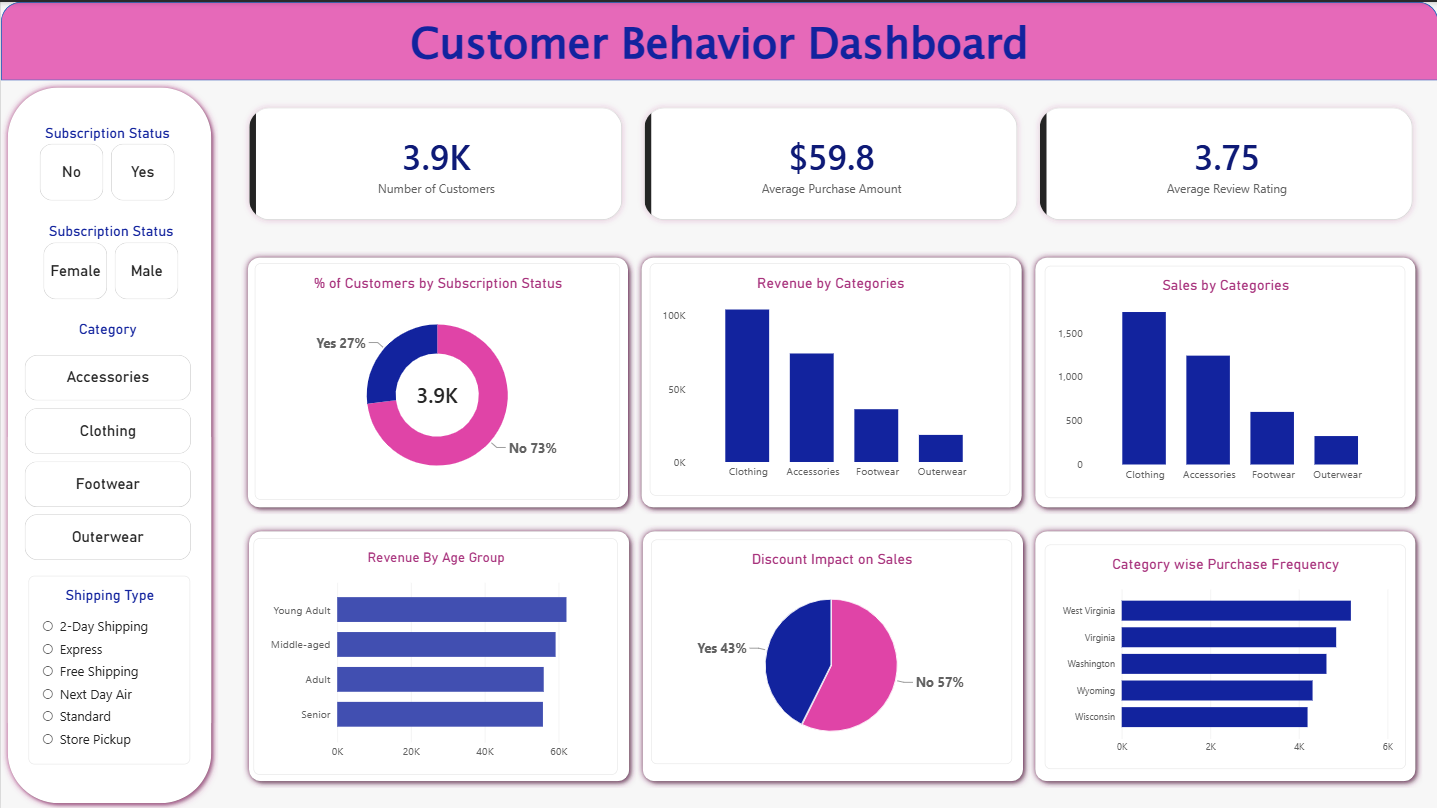

What the dashboard file says about the page in this screenshot:
{"tool":"powerbi","page":{"name":"Page 1","canvas":[1920,1080],"ordinal":0},"visuals":[{"type":"cardVisual","fields":{"Data":["customer.Number of Customers","customer.Average Purchase Amount","customer.Average Review Rating"]},"box":[320,130,1578,172],"z":0},{"type":"shape","box":[0,0,1920,105],"z":1000},{"type":"textbox","box":[0,13.3,1920,91.7],"z":2000},{"type":"shape","box":[320,332,526,352],"z":3000},{"type":"donutChart","title":"% of Customers by Subscription Status","fields":{"Category":["customer.subscription_status"],"Y":["CountNonNull(customer.customer_id)"]},"box":[338.3,348.8,487.9,316],"z":4000},{"type":"shape","box":[846,332,526,352],"z":5000},{"type":"shape","box":[1372,332,526,352],"z":6000},{"type":"clusteredColumnChart","title":"Revenue by Categories","fields":{"Category":["customer.category"],"Y":["Sum(customer.purchase_amount)"]},"box":[867.2,348.5,481.9,310.3],"z":7000},{"type":"clusteredColumnChart","title":"Sales by Categories","fields":{"Category":["customer.category"],"Y":["CountNonNull(customer.customer_id)"]},"box":[1394,352.3,481.9,310.3],"z":8000},{"type":"shape","box":[0,106,290,974],"z":9000},{"type":"advancedSlicerVisual","title":"Subscription Status","fields":{"Values":["customer.subscription_status"]},"box":[32,164,221,101.6],"z":10000},{"type":"advancedSlicerVisual","title":"Category","fields":{"Values":["customer.category"]},"box":[32,426,222,340],"z":11000},{"type":"listSlicer","title":"Shipping Type","fields":{"Values":["customer.shipping_type"]},"box":[36,766,216,252],"z":12000},{"type":"shape","box":[322,698,526,352],"z":13000},{"type":"clusteredBarChart","title":"Revenue By Age Group","fields":{"Category":["customer.age_group"],"Y":["Sum(customer.purchase_amount)"]},"box":[338,716,486,316],"z":14000},{"type":"shape","box":[848,698,526,352],"z":15000},{"type":"shape","box":[1372,698,526,352],"z":16000},{"type":"pieChart","title":"Discount Impact on Sales","fields":{"Category":["customer.discount_applied"],"Y":["Sum(customer.purchase_amount)"]},"box":[868,718,482,300],"z":17000},{"type":"clusteredBarChart","title":"Category wise Purchase Frequency","fields":{"Category":["customer.location"],"Y":["Sum(customer.purchase_amount)"]},"box":[1394,724,482,300],"z":18000},{"type":"advancedSlicerVisual","title":"Subscription Status","fields":{"Values":["customer.gender"]},"box":[36,296,221,101.6],"z":19000}]}

Visuals, with their boxes in screenshot pixels (x1, y1, x2, y2), scaled from the page's 1920x1080 canvas onto the 1437x808 screenshot:
cardVisual - customer.Number of Customers x customer.Average Purchase Amount: Rect(240, 97, 1421, 226)
shape: Rect(0, 0, 1436, 79)
textbox: Rect(0, 10, 1436, 79)
shape: Rect(240, 248, 633, 512)
"% of Customers by Subscription Status" donutChart: Rect(253, 261, 618, 497)
shape: Rect(633, 248, 1027, 512)
shape: Rect(1027, 248, 1421, 512)
"Revenue by Categories" clusteredColumnChart: Rect(649, 261, 1010, 493)
"Sales by Categories" clusteredColumnChart: Rect(1043, 264, 1404, 496)
shape: Rect(0, 79, 217, 807)
"Subscription Status" advancedSlicerVisual: Rect(24, 123, 189, 199)
"Category" advancedSlicerVisual: Rect(24, 319, 190, 573)
"Shipping Type" listSlicer: Rect(27, 573, 189, 762)
shape: Rect(241, 522, 635, 786)
"Revenue By Age Group" clusteredBarChart: Rect(253, 536, 617, 772)
shape: Rect(635, 522, 1028, 786)
shape: Rect(1027, 522, 1421, 786)
"Discount Impact on Sales" pieChart: Rect(650, 537, 1010, 762)
"Category wise Purchase Frequency" clusteredBarChart: Rect(1043, 542, 1404, 766)
"Subscription Status" advancedSlicerVisual: Rect(27, 221, 192, 297)
